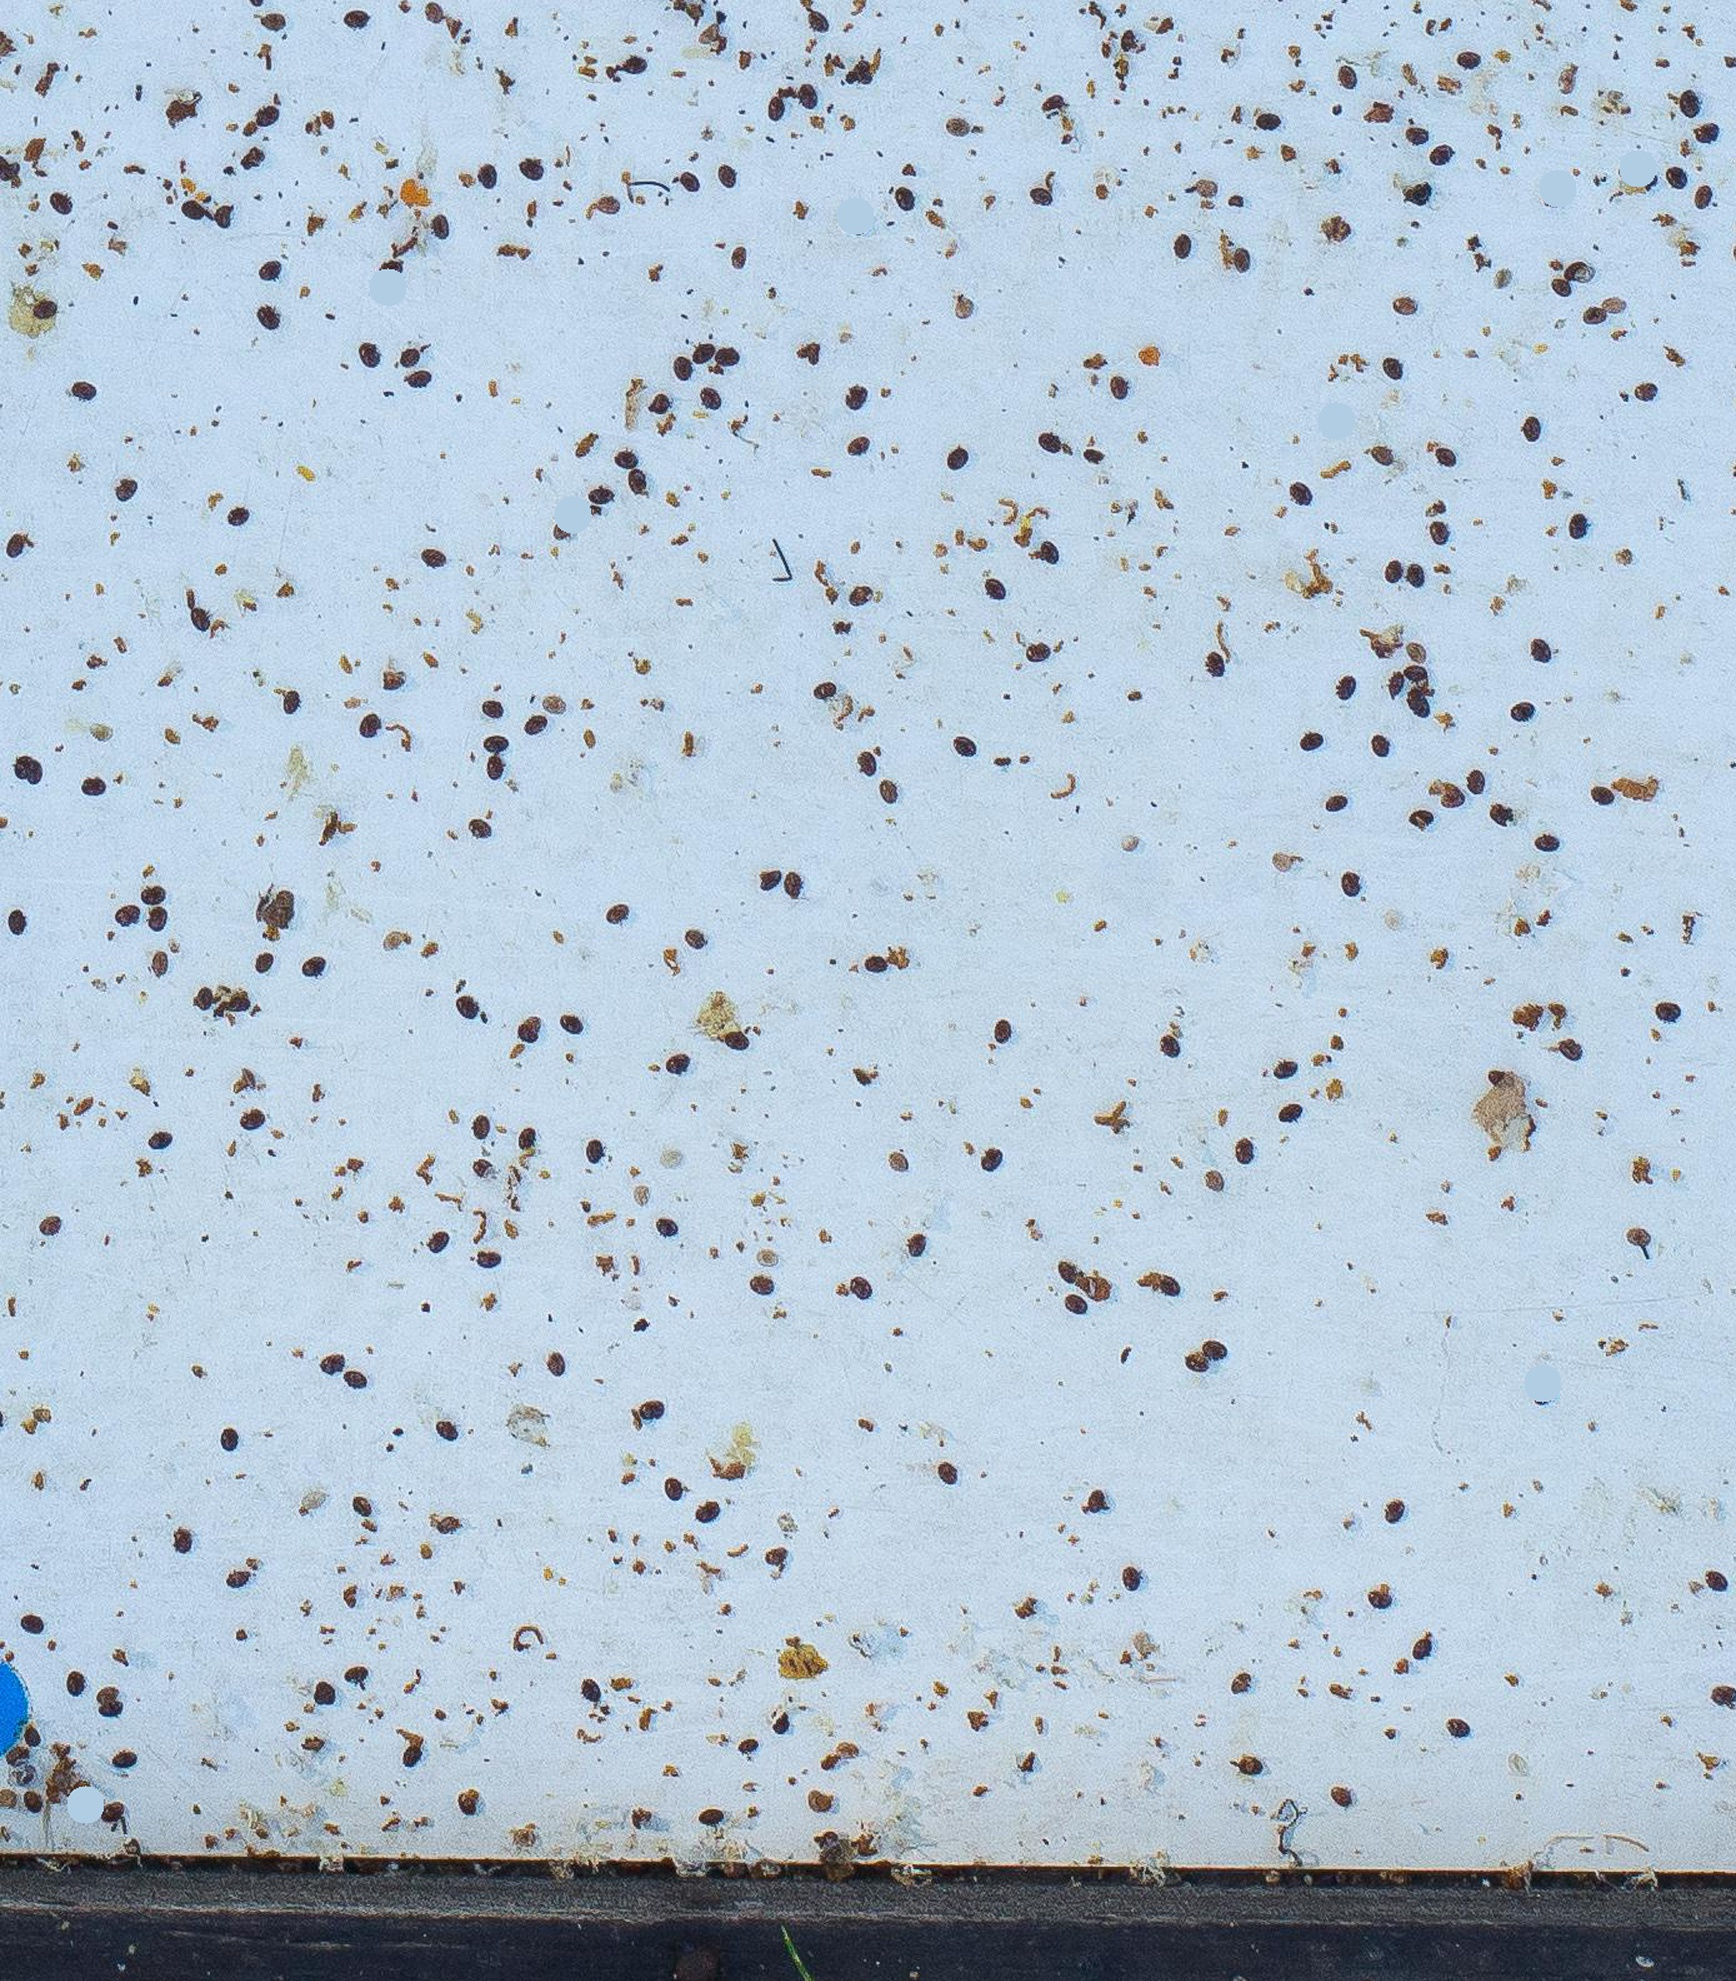Varroa: (1606, 145, 1650, 189), (136, 900, 180, 943), (773, 864, 817, 908), (12, 1781, 56, 1824), (1106, 19, 1150, 61), (1527, 175, 1571, 217), (1558, 244, 1600, 288), (1396, 115, 1438, 158), (204, 195, 246, 239), (401, 360, 443, 404), (640, 381, 682, 424), (682, 330, 726, 372), (616, 462, 660, 504), (1573, 296, 1616, 339), (579, 475, 621, 519), (845, 740, 887, 783), (473, 721, 515, 765), (17, 753, 61, 795), (131, 869, 173, 913), (182, 974, 226, 1016), (217, 980, 261, 1023), (1261, 1049, 1305, 1092), (463, 1147, 507, 1189), (1195, 1326, 1238, 1370), (1177, 1343, 1221, 1385), (310, 1341, 352, 1385), (1073, 1477, 1116, 1519), (1217, 1663, 1261, 1705), (727, 1725, 769, 1769), (103, 1740, 146, 1782), (93, 1792, 136, 1834), (845, 746, 887, 788), (1248, 99, 1290, 141), (1682, 175, 1724, 217), (1653, 157, 1696, 199), (1625, 153, 1667, 195), (1546, 158, 1588, 200), (1541, 270, 1583, 312), (391, 335, 433, 377), (1595, 281, 1637, 323), (1398, 554, 1440, 596), (1371, 551, 1413, 593), (1455, 760, 1497, 802), (1478, 788, 1520, 830), (1399, 795, 1441, 837), (1396, 650, 1438, 692), (470, 687, 512, 729), (473, 750, 515, 792), (136, 942, 178, 984), (744, 857, 786, 900), (1194, 1157, 1236, 1199), (1150, 1263, 1192, 1306), (1046, 1247, 1088, 1289), (335, 1358, 377, 1400), (1401, 1629, 1443, 1671), (303, 1676, 345, 1718), (88, 1674, 130, 1717), (91, 1691, 133, 1733), (1227, 1743, 1270, 1786), (391, 1733, 433, 1775), (71, 1784, 113, 1826), (89, 1779, 131, 1819), (1421, 135, 1463, 175), (12, 1717, 52, 1759), (131, 886, 172, 926), (349, 345, 387, 387), (1692, 1563, 1731, 1605), (61, 761, 108, 795), (296, 947, 335, 987), (27, 293, 66, 334), (1670, 108, 1707, 150), (478, 738, 515, 778), (699, 1807, 734, 1850), (904, 1230, 940, 1272), (945, 733, 982, 772), (1495, 701, 1532, 740), (972, 564, 1009, 603), (1113, 1558, 1150, 1597), (1616, 1208, 1653, 1247), (1320, 777, 1357, 815), (751, 93, 788, 131), (839, 431, 876, 470), (1339, 878, 1377, 915), (401, 347, 436, 387), (12, 746, 45, 788), (461, 814, 498, 851), (349, 707, 386, 745), (690, 382, 727, 419), (141, 1122, 178, 1159), (871, 766, 908, 804), (769, 862, 807, 900), (338, 1664, 375, 1701), (1364, 733, 1399, 772), (381, 241, 416, 280), (845, 574, 881, 613), (653, 1043, 692, 1078), (707, 335, 743, 374), (594, 185, 628, 226), (882, 184, 918, 221), (1524, 628, 1559, 665), (1559, 502, 1595, 539), (1650, 989, 1687, 1024), (601, 891, 636, 928), (1362, 1577, 1398, 1614), (758, 1541, 795, 1577), (1088, 367, 1125, 403), (477, 713, 514, 748), (1195, 1331, 1229, 1370), (17, 1609, 51, 1647), (1514, 409, 1549, 445), (1227, 1132, 1263, 1167), (1556, 1033, 1591, 1068), (739, 1263, 775, 1299), (244, 96, 280, 131), (1017, 633, 1052, 669), (522, 706, 557, 741), (1419, 128, 1455, 163), (333, 1353, 369, 1388), (510, 1124, 546, 1159), (855, 947, 891, 982), (254, 249, 290, 285), (670, 163, 706, 199), (1680, 172, 1716, 207), (1030, 536, 1066, 571), (424, 1226, 460, 1262), (1547, 261, 1583, 296), (168, 1526, 204, 1562), (1329, 859, 1366, 893), (559, 1006, 593, 1043), (1581, 295, 1615, 332), (571, 1669, 604, 1706), (221, 499, 254, 536), (1275, 1093, 1308, 1130), (184, 605, 217, 642), (648, 1206, 682, 1243), (719, 239, 753, 276), (69, 369, 103, 406), (653, 1471, 690, 1504), (433, 1417, 466, 1454), (1391, 285, 1424, 322), (1398, 686, 1435, 719), (1201, 643, 1234, 681), (707, 152, 739, 190), (881, 1151, 913, 1189), (210, 1420, 246, 1454), (347, 2, 382, 35), (929, 1459, 965, 1492), (978, 1016, 1014, 1049), (450, 994, 483, 1029), (1285, 473, 1318, 509), (1586, 782, 1620, 817), (522, 150, 556, 185), (418, 541, 451, 576), (1061, 1285, 1094, 1321), (1455, 37, 1488, 72), (44, 185, 77, 221), (788, 77, 823, 111), (184, 192, 219, 226), (1625, 372, 1659, 408), (91, 1679, 126, 1713), (1293, 719, 1327, 755), (249, 298, 285, 332), (423, 207, 456, 243), (460, 1110, 493, 1145), (978, 1145, 1012, 1181), (1421, 512, 1455, 547), (842, 377, 876, 413), (352, 1496, 387, 1530), (1022, 175, 1056, 211), (1628, 1228, 1662, 1263), (812, 670, 844, 707), (1330, 664, 1362, 701), (1404, 642, 1436, 679), (1679, 88, 1712, 121), (842, 1267, 876, 1300), (631, 1385, 665, 1418), (109, 470, 143, 504), (1372, 347, 1406, 381), (1384, 553, 1418, 586), (1327, 1781, 1361, 1814), (616, 438, 650, 472), (679, 926, 712, 960), (1379, 1491, 1413, 1524), (1445, 773, 1478, 807), (458, 1782, 492, 1816), (1167, 226, 1201, 259), (226, 1555, 259, 1589), (583, 1135, 615, 1171), (1036, 424, 1068, 460), (1222, 241, 1254, 276), (35, 1211, 67, 1247), (471, 153, 503, 189), (1531, 820, 1563, 856), (248, 943, 283, 975), (1426, 430, 1456, 467), (1448, 1705, 1480, 1738), (946, 445, 978, 478), (1330, 61, 1362, 94), (542, 514, 574, 547), (945, 101, 977, 135), (56, 1664, 88, 1698), (1367, 441, 1398, 477), (716, 1021, 748, 1053), (475, 1241, 507, 1273), (694, 1489, 726, 1521), (535, 1339, 567, 1371), (274, 692, 306, 724), (313, 1348, 345, 1380), (610, 51, 642, 83), (663, 347, 694, 381), (1152, 1026, 1180, 1061), (113, 888, 140, 925), (236, 1102, 269, 1130), (84, 777, 114, 805), (3, 529, 24, 569), (3, 901, 22, 938), (509, 1011, 535, 1034)
